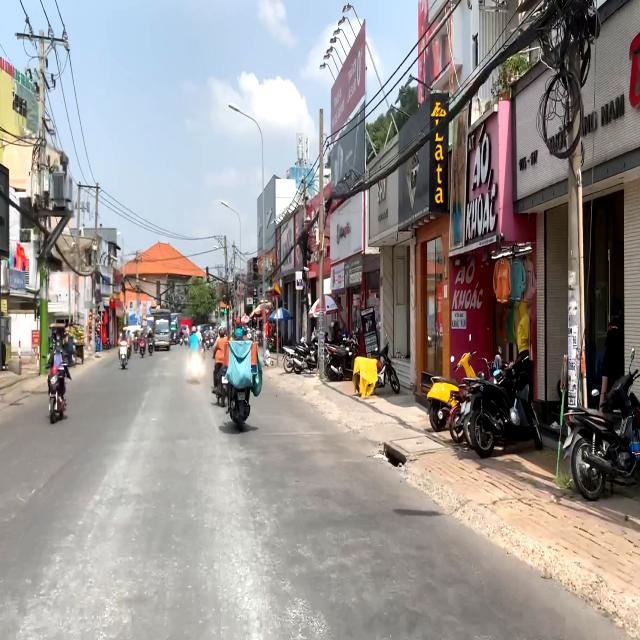W.219: (271, 281, 282, 297)
